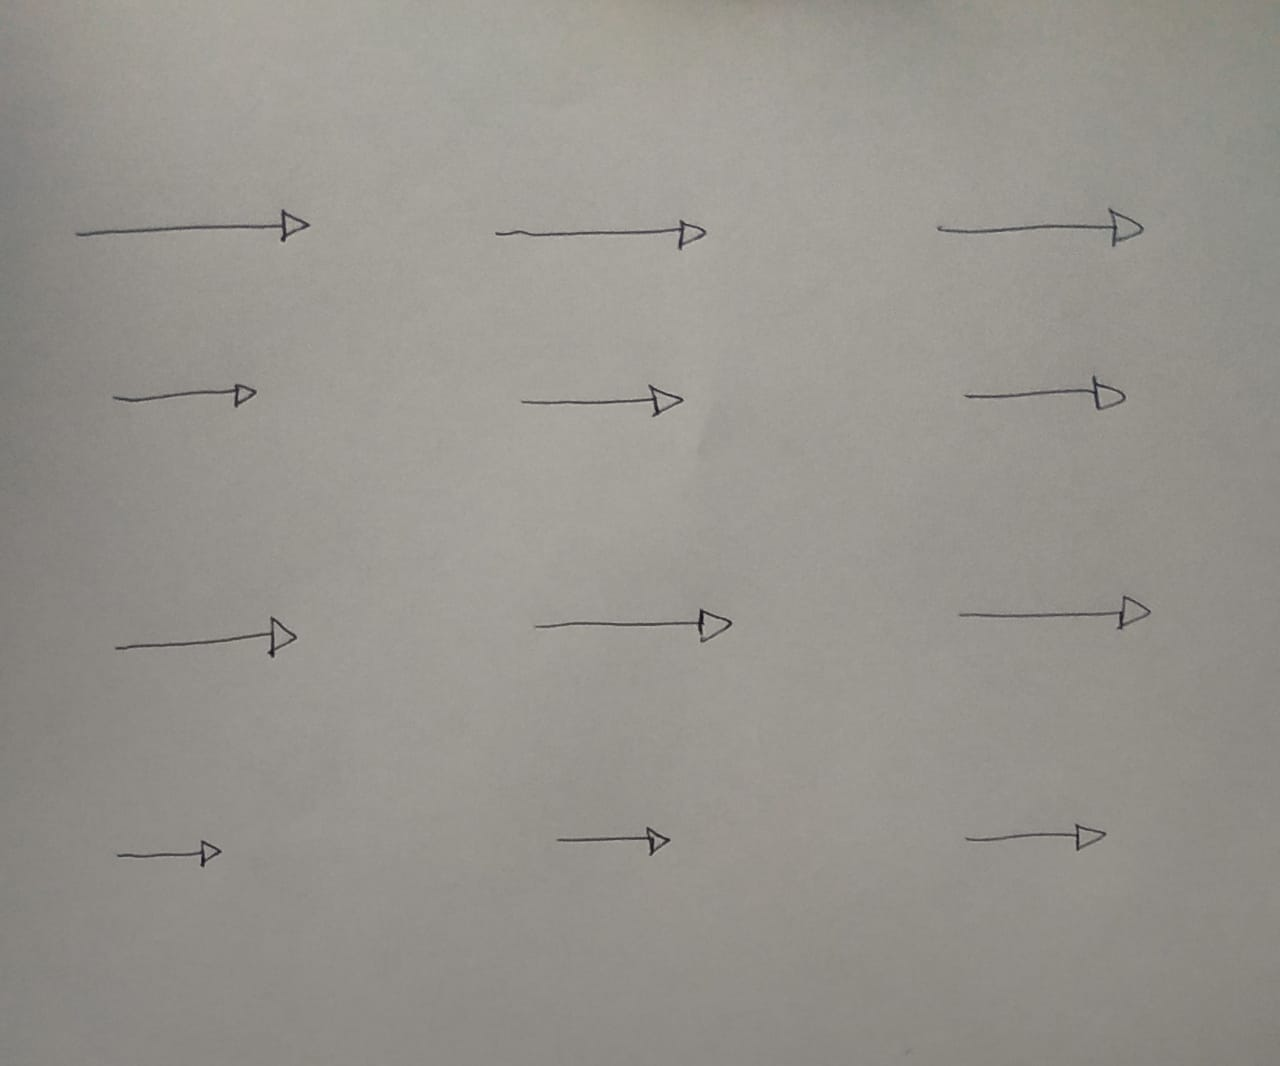arrow_line_right: (930, 194, 1156, 260), (70, 196, 314, 254), (526, 592, 742, 656), (490, 202, 714, 260), (951, 578, 1156, 642), (112, 610, 300, 676), (958, 362, 1138, 426), (518, 372, 696, 430), (112, 372, 264, 428), (960, 808, 1114, 862), (556, 816, 678, 864), (114, 828, 226, 878)
